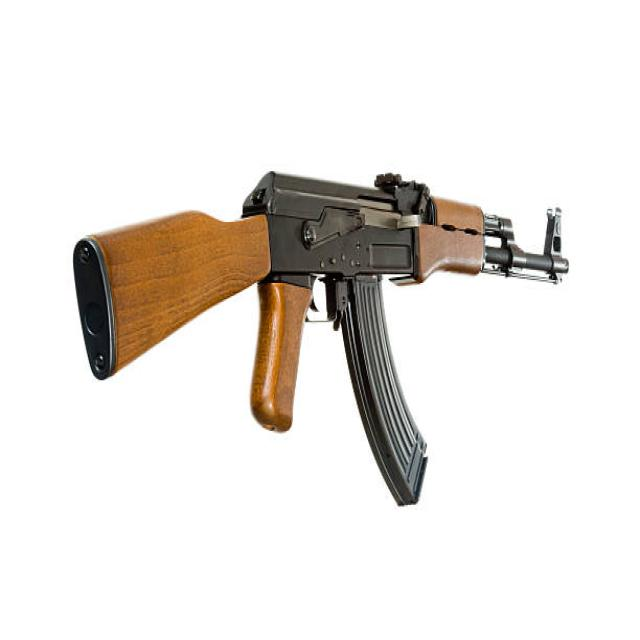rifle: (64, 159, 574, 509)
